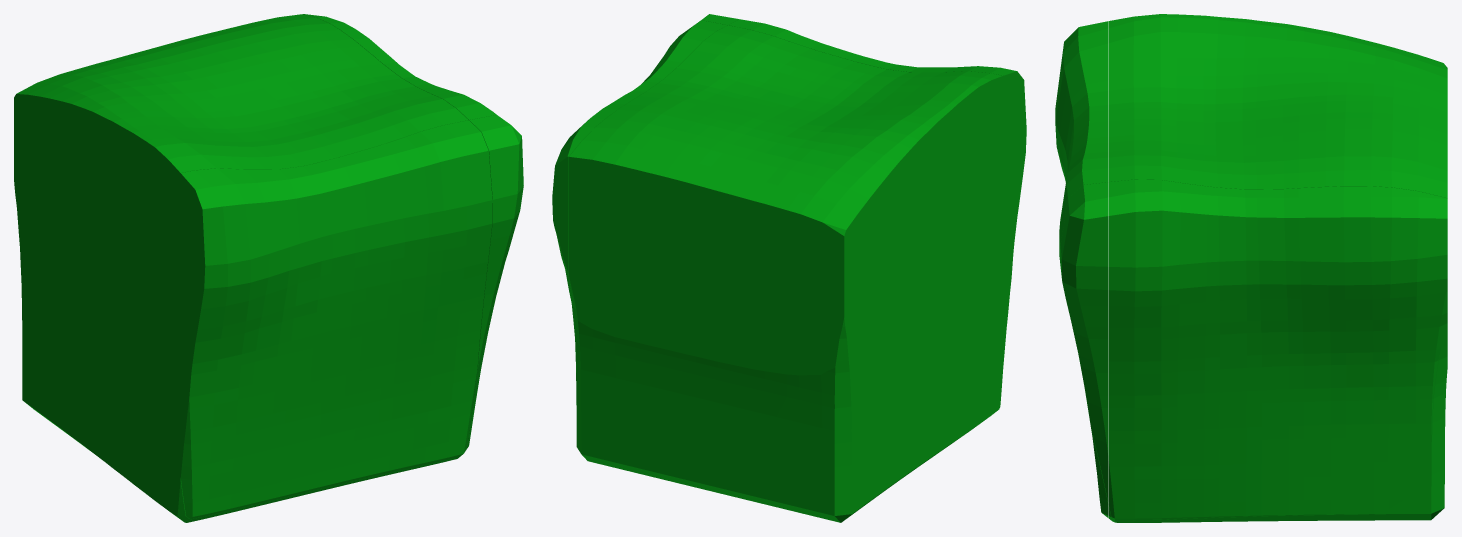
File: 4by10beveledsubdivided.037.fbx
3 views of the same model, side by side, from view 1: azimuth 30°, elevation 25°; view 2: azimuth 150°, elevation 25°; view 3: azimuth 270°, elevation 25° (orthographic). The views are drawn at different scales.
Parts seen in each view (by area): view 1: 4by10beveledsubdivided.037; view 2: 4by10beveledsubdivided.037; view 3: 4by10beveledsubdivided.037.
Part boxes in pixels (box(x1,y1,x2,y2)): 4by10beveledsubdivided.037: box(14, 14, 523, 522); 4by10beveledsubdivided.037: box(552, 14, 1026, 522); 4by10beveledsubdivided.037: box(1055, 14, 1447, 522).
Size of the model in its own units: 229 by 240 by 232.
